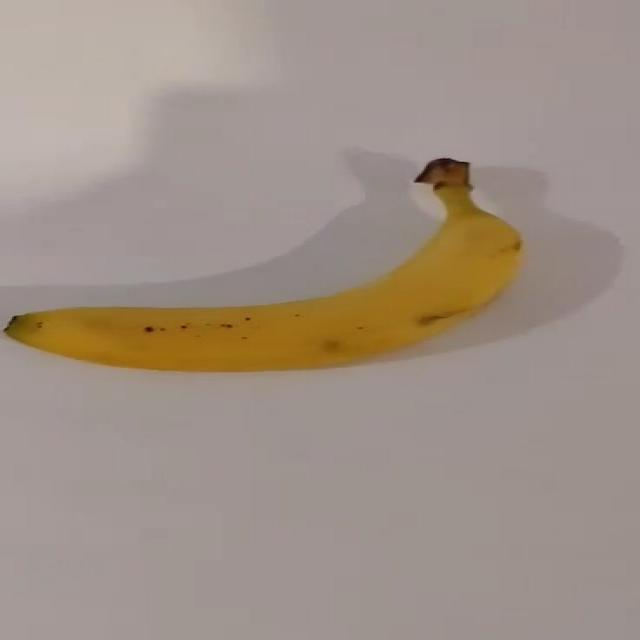Banana: (2, 156, 522, 373)
